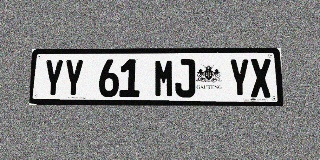1: (119, 59, 140, 97)
6: (99, 59, 119, 97)
J: (175, 59, 195, 97)
M: (154, 59, 174, 97)
X: (250, 59, 272, 98)
Y: (43, 59, 64, 97), (63, 59, 84, 97), (229, 59, 250, 97)
